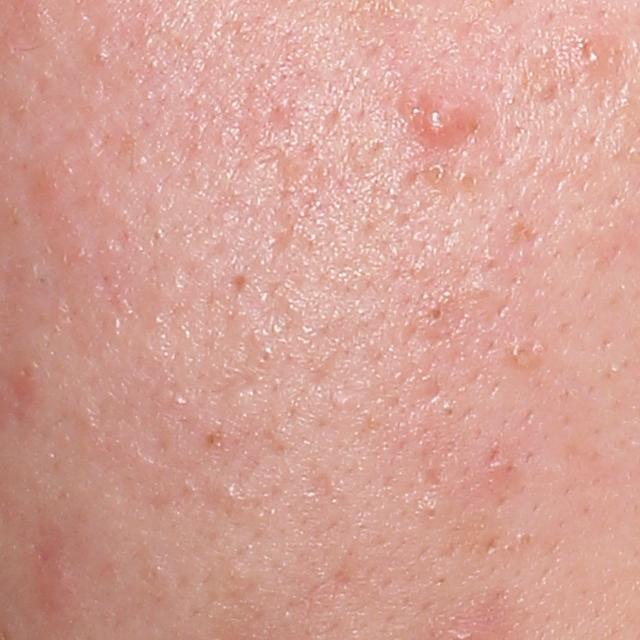comedo: (580, 39, 619, 75), (419, 160, 447, 188), (457, 169, 483, 194)
